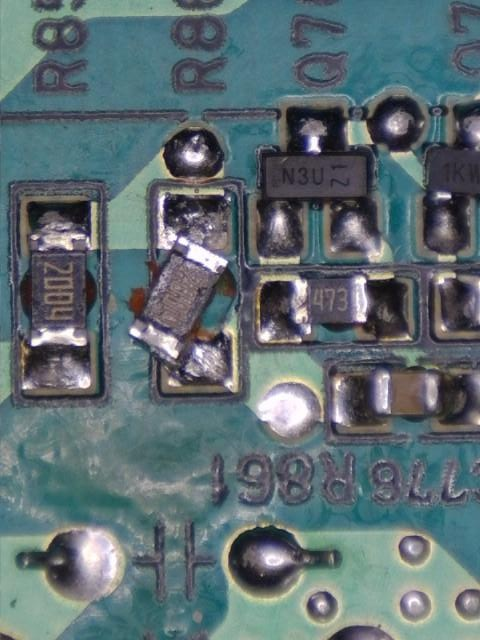pcb_defect: (127, 190, 234, 388), (259, 276, 408, 342), (335, 367, 480, 427)
